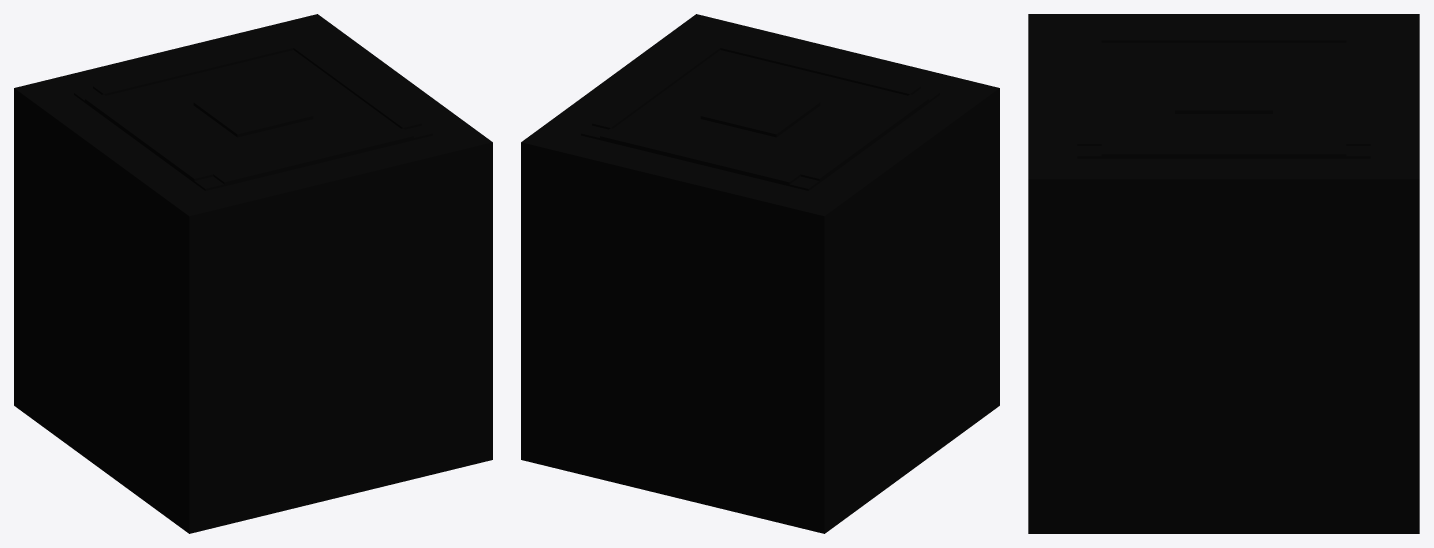
Rendered from lab_lift.obj.
3 renders of one model, left to right at view 1: azimuth 30°, elevation 25°; view 2: azimuth 150°, elevation 25°; view 3: azimuth 270°, elevation 25°, orthographic. The views are drawn at different scales.
Bounding box in the file's own units: 0.8589 × 0.875 × 0.8589.
